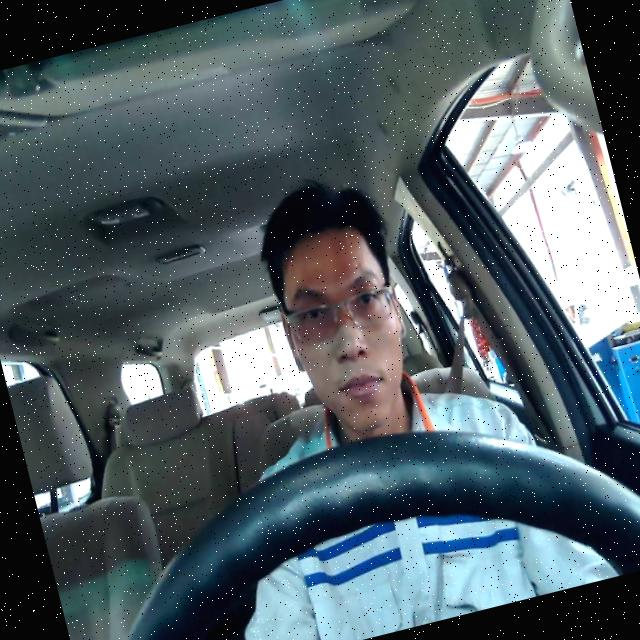focused: (260, 216, 428, 447)
